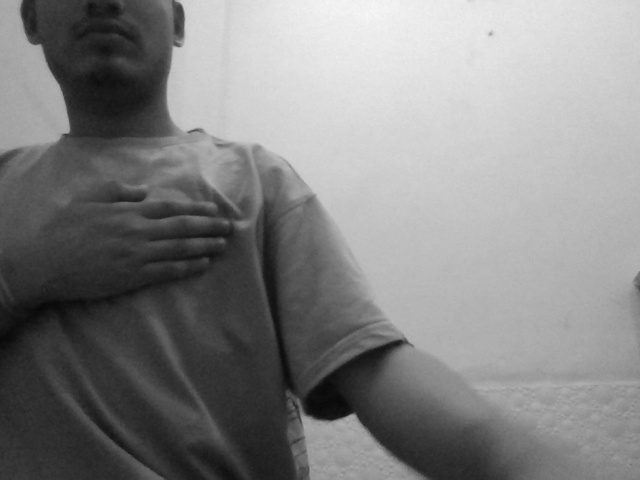Sorry: (24, 165, 237, 317)
